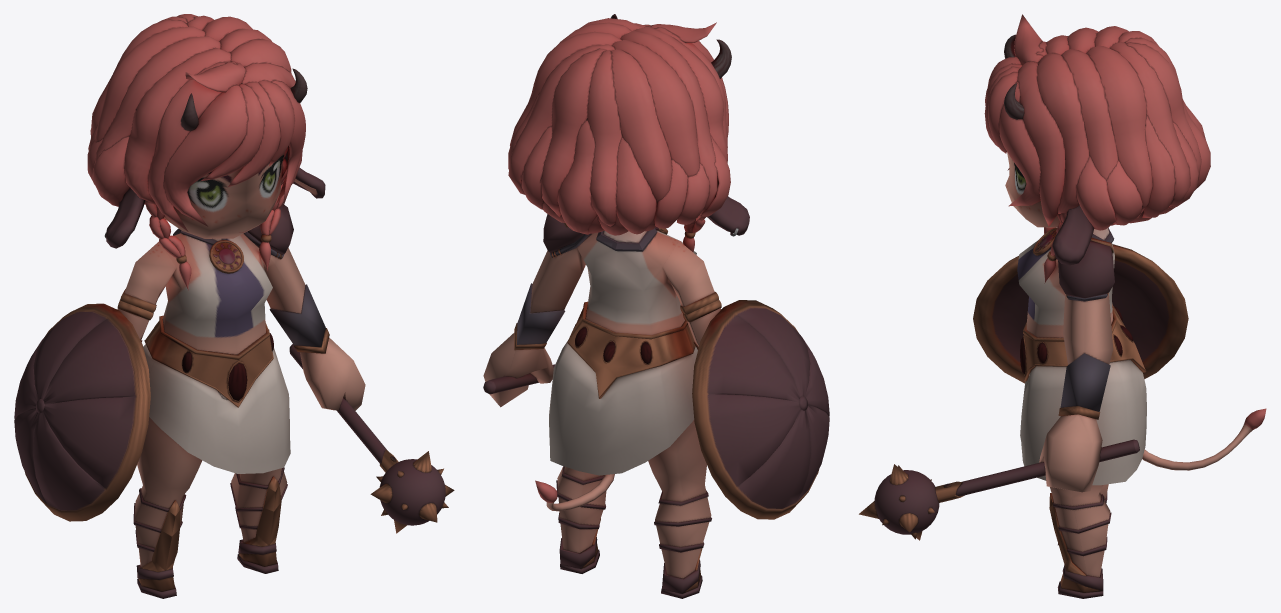
File: Lenette.fbx
3 renders of one model, left to right at view 1: azimuth 30°, elevation 25°; view 2: azimuth 150°, elevation 25°; view 3: azimuth 270°, elevation 25°, orthographic. The views are drawn at different scales.
Visible parts, largest first — view 1: Avatar_Base.002; view 2: Avatar_Base.002; view 3: Avatar_Base.002.
Boxes of the visible parts, x1=… form: Avatar_Base.002: x1=14, y1=14, x2=454, y2=598; Avatar_Base.002: x1=483, y1=14, x2=829, y2=598; Avatar_Base.002: x1=859, y1=14, x2=1266, y2=598.
Bounding box in the file's own units: 118 × 182 × 127.
Materials: 1 (1 with a texture image).
